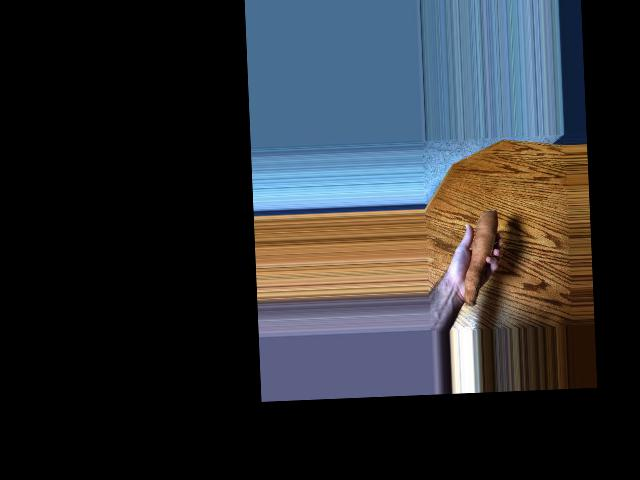sweet_potato: (460, 208, 505, 315)
